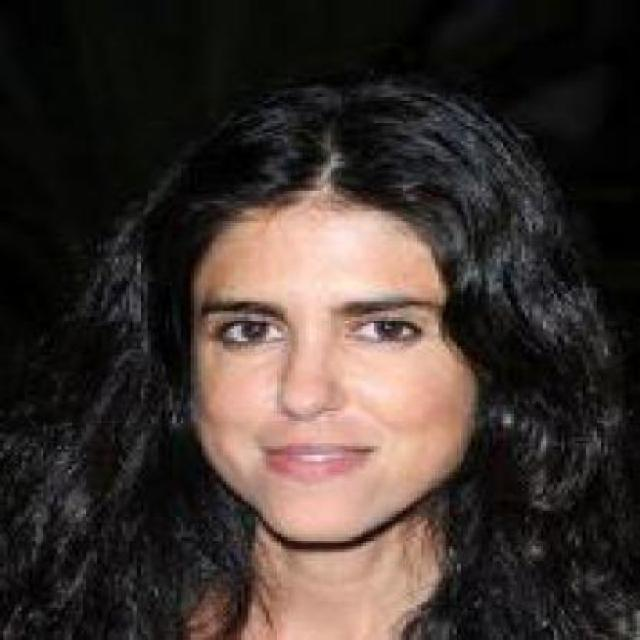closed-mouth: (262, 440, 376, 478)
